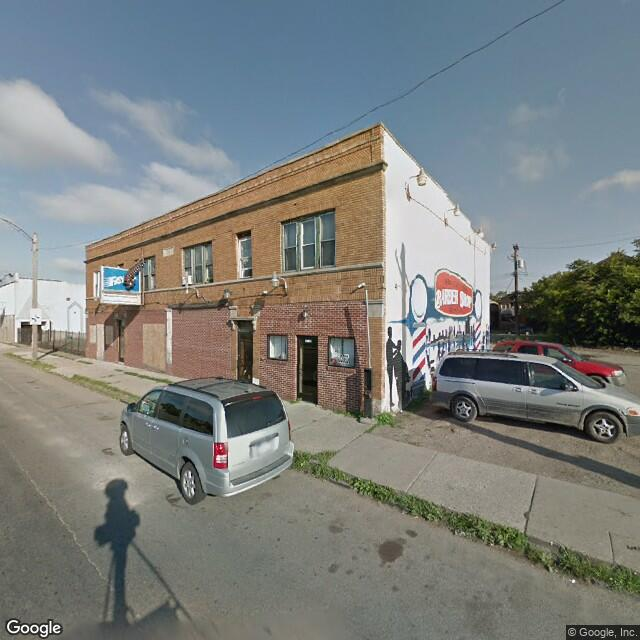litter: (570, 577, 580, 588)
